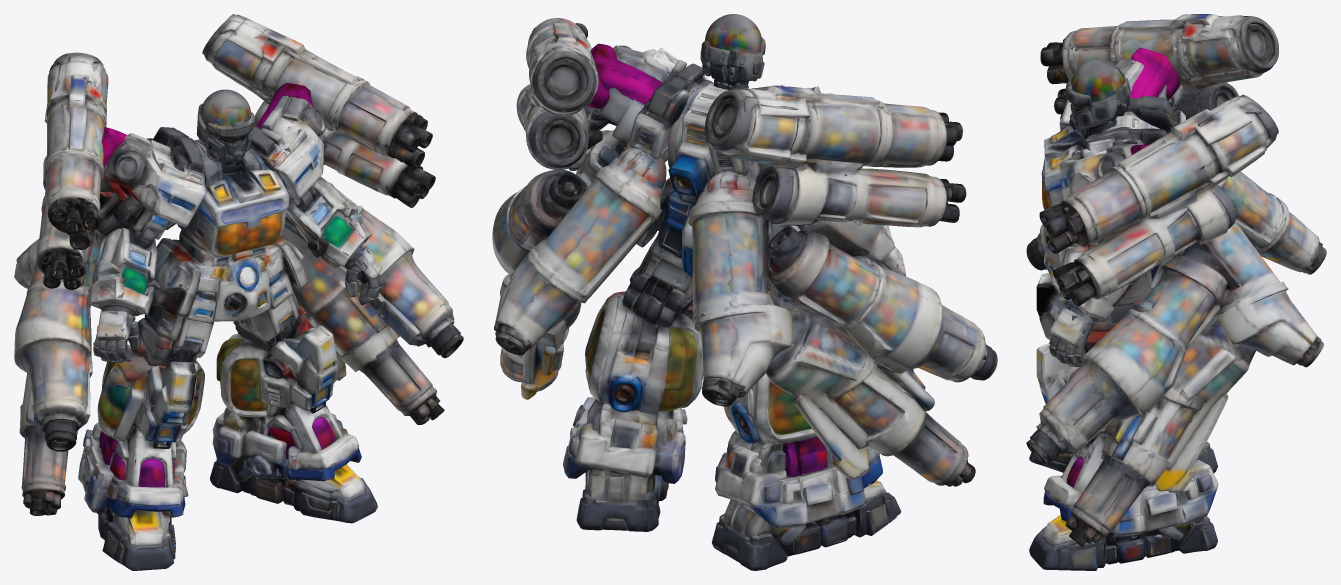
The model's file is GACHAPON_AR_compressed.glb.
3 renders of one model, left to right at view 1: azimuth 30°, elevation 25°; view 2: azimuth 150°, elevation 25°; view 3: azimuth 270°, elevation 25°, orthographic. The views are drawn at different scales.
Visible parts, largest first — view 1: GACHA_Body.002, GACHA_back.002; view 2: GACHA_back.002, GACHA_Body.002; view 3: GACHA_back.002, GACHA_Body.002.
Boxes of the visible parts, <box> form: GACHA_Body.002: <box>78,83,382,570</box>; GACHA_back.002: <box>14,14,463,515</box>; GACHA_back.002: <box>492,18,997,486</box>; GACHA_Body.002: <box>563,14,906,570</box>; GACHA_back.002: <box>1026,14,1326,546</box>; GACHA_Body.002: <box>1029,47,1218,570</box>.
Bounding box in the file's own units: 1.6 × 1.6 × 0.9642.
Materials: 2 (2 with a texture image).
